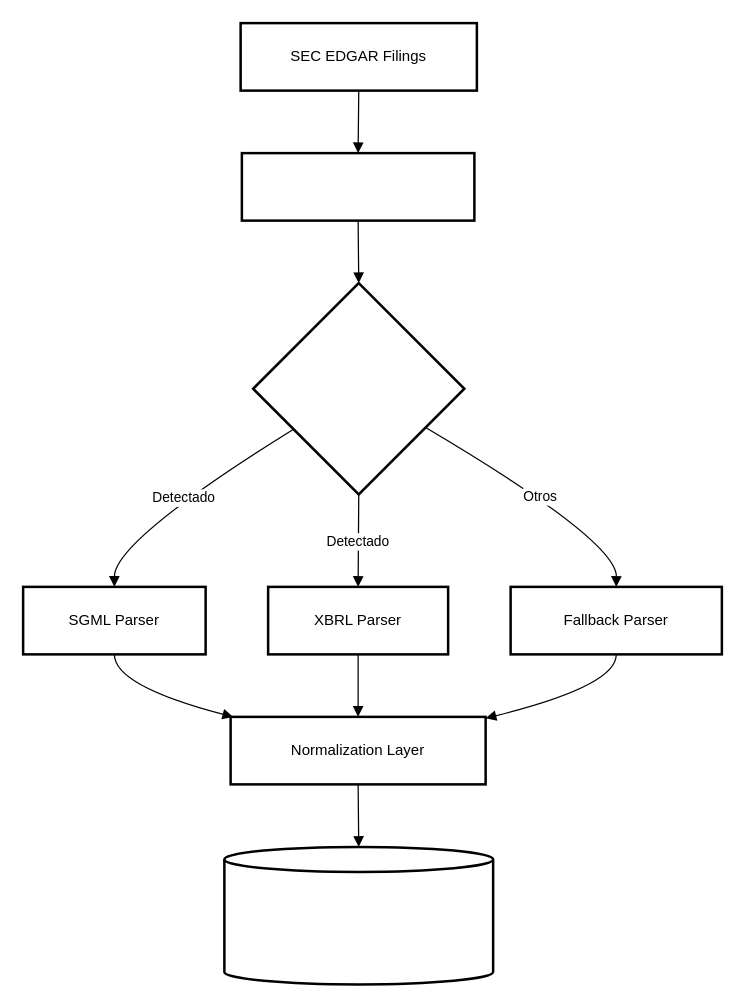
Some shapes in this 744 by 1006 pixel diagram are drawn without their labels. Each missing label, with the centre of its shape:
"Format Detection" belongs at [357,186].
"Parser Selection" belongs at [358,388].
"PostgreSQL Metadata + Extracted Facts" belongs at [358,915].
